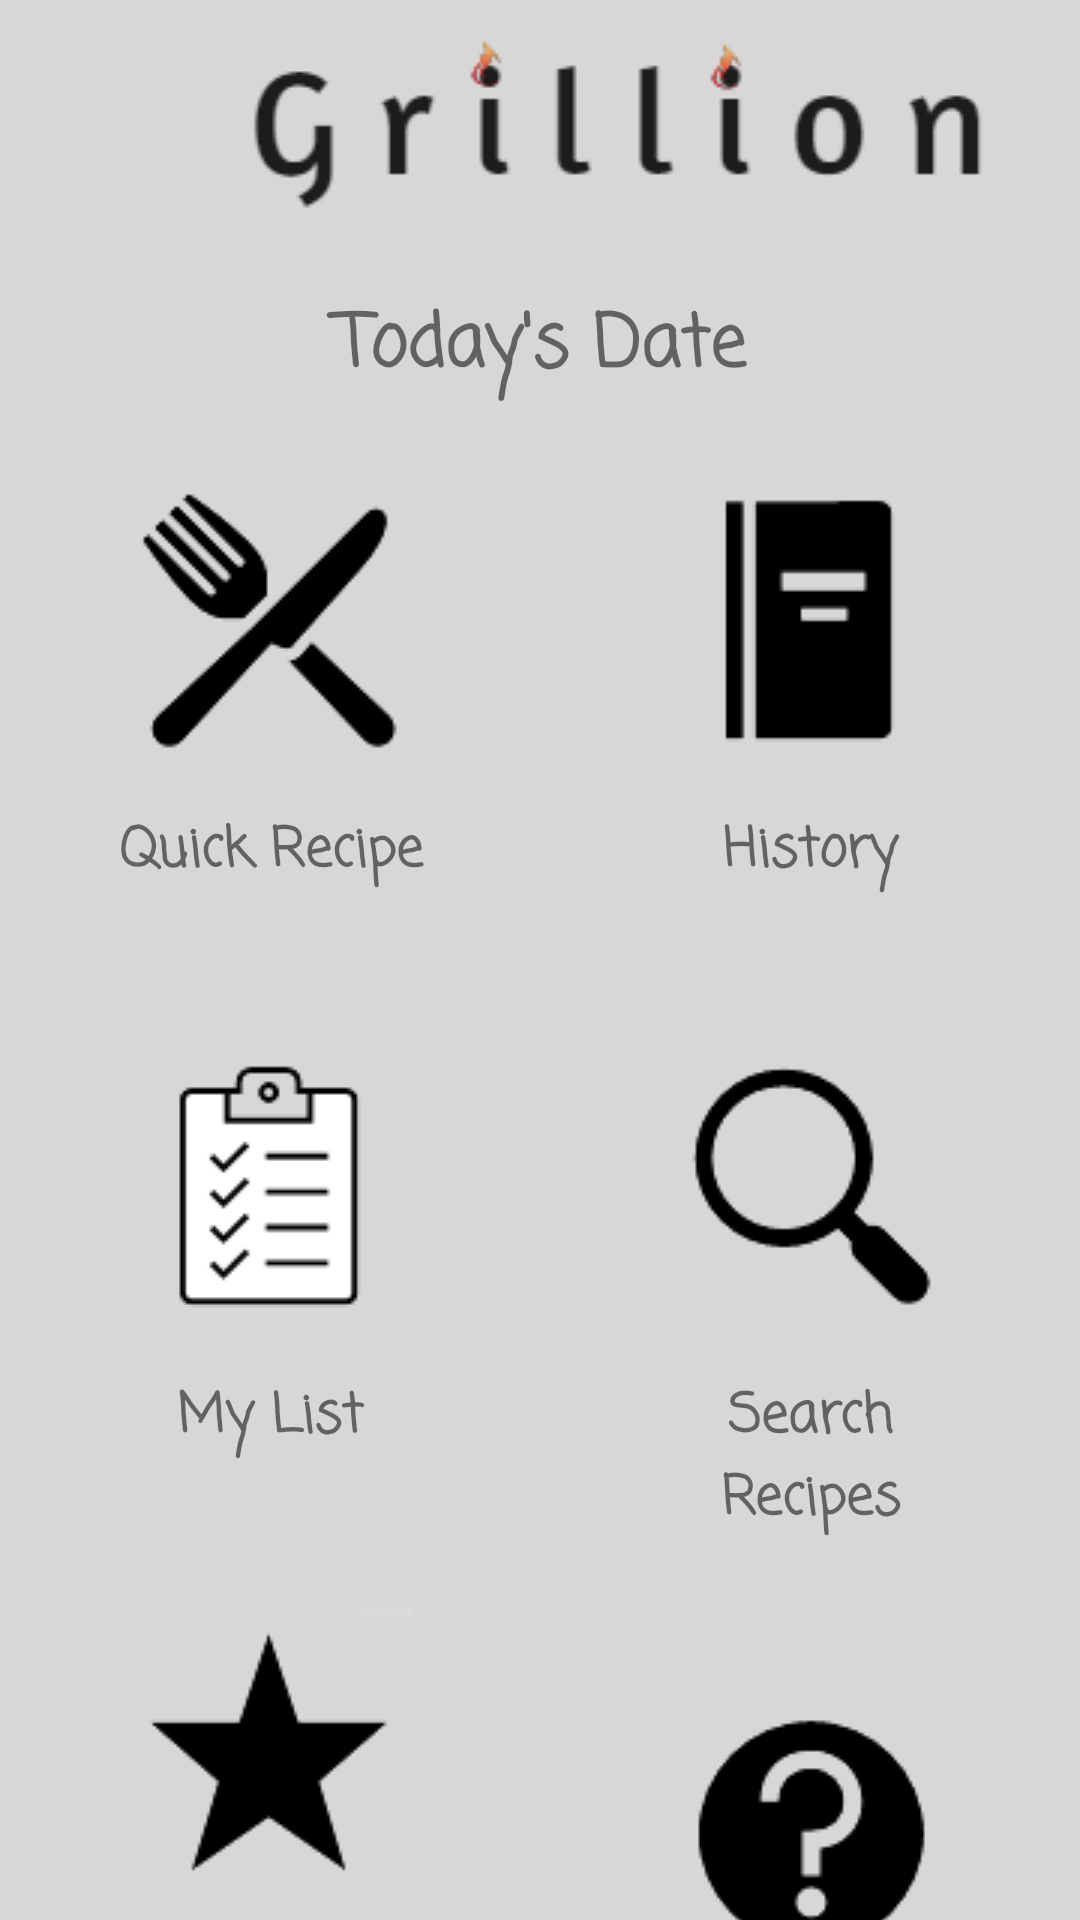

Where icons sit on this 1080*1920 app screen, as bbox=(x1, y1, x2, y2):
favoriteicon: bbox=(152, 1634, 387, 1871)
forkknife: bbox=(143, 494, 397, 748)
journalicon: bbox=(725, 500, 893, 740)
listicon: bbox=(179, 1066, 359, 1306)
searchicon: bbox=(693, 1068, 931, 1305)
